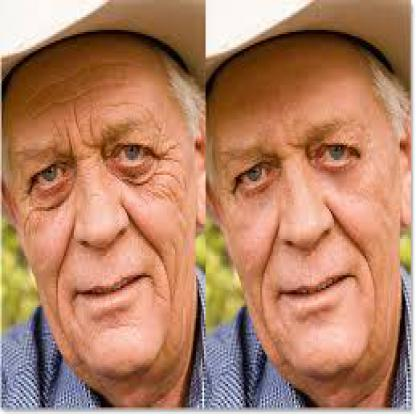puffyeye: (18, 186, 64, 207), (114, 165, 159, 182)
wrinkle: (16, 58, 140, 115), (341, 222, 387, 339), (136, 224, 186, 311), (48, 252, 80, 343), (257, 228, 271, 342), (154, 152, 182, 198)
